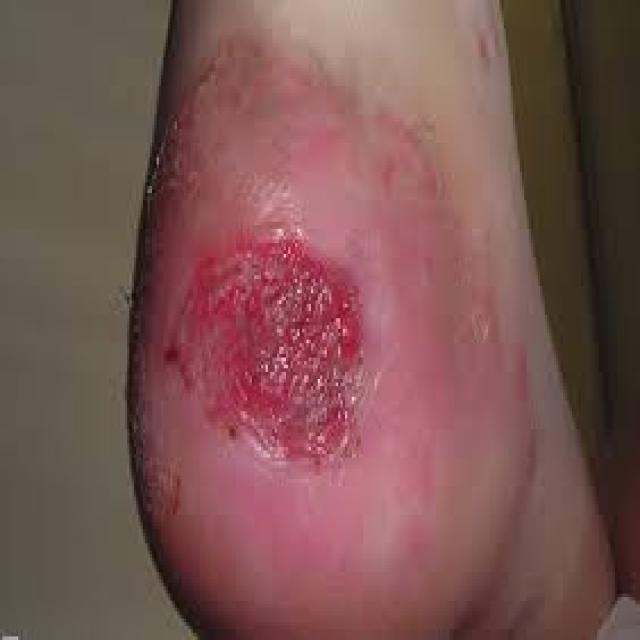stage-3: (166, 242, 366, 466)
